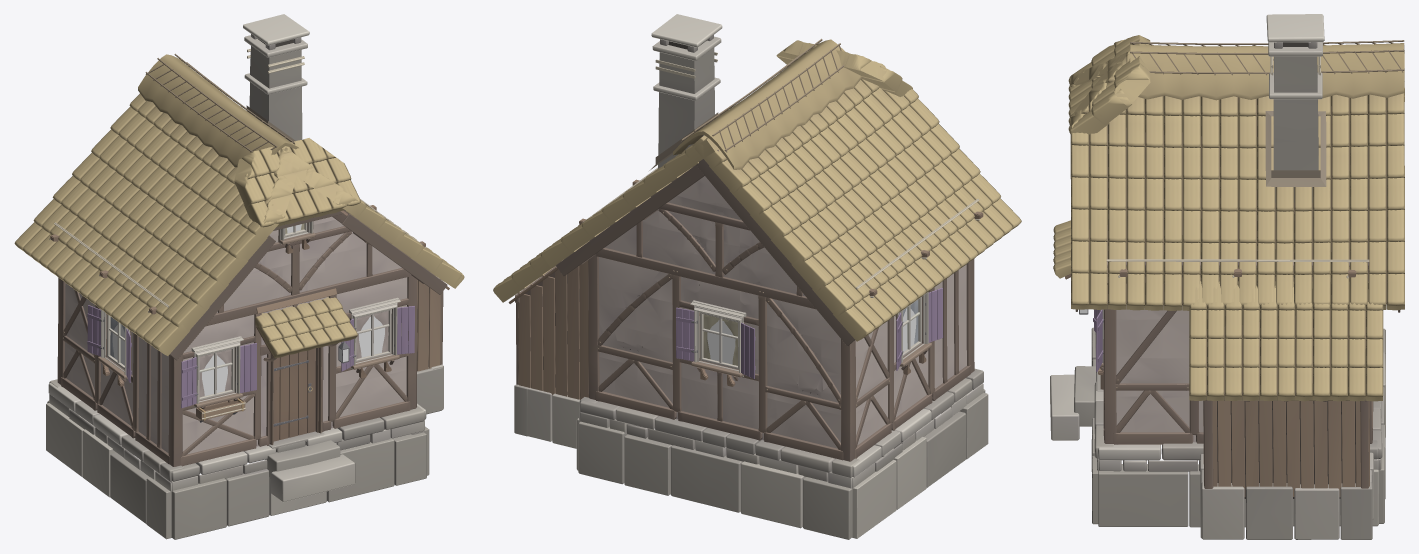
The model's file is bd_house_h7.glb.
3 renders of one model, left to right at view 1: azimuth 30°, elevation 25°; view 2: azimuth 150°, elevation 25°; view 3: azimuth 270°, elevation 25°, orthographic. The views are drawn at different scales.
Parts seen in each view (by area): view 1: BD_house_h7__body; view 2: BD_house_h7__body; view 3: BD_house_h7__body.
Part boxes in pixels (x1,y1,x2,y2): BD_house_h7__body: (14,14,464,539); BD_house_h7__body: (493,14,1021,539); BD_house_h7__body: (1050,14,1404,539).
Bounding box in the file's own units: 8.41 × 8.98 × 6.23.
